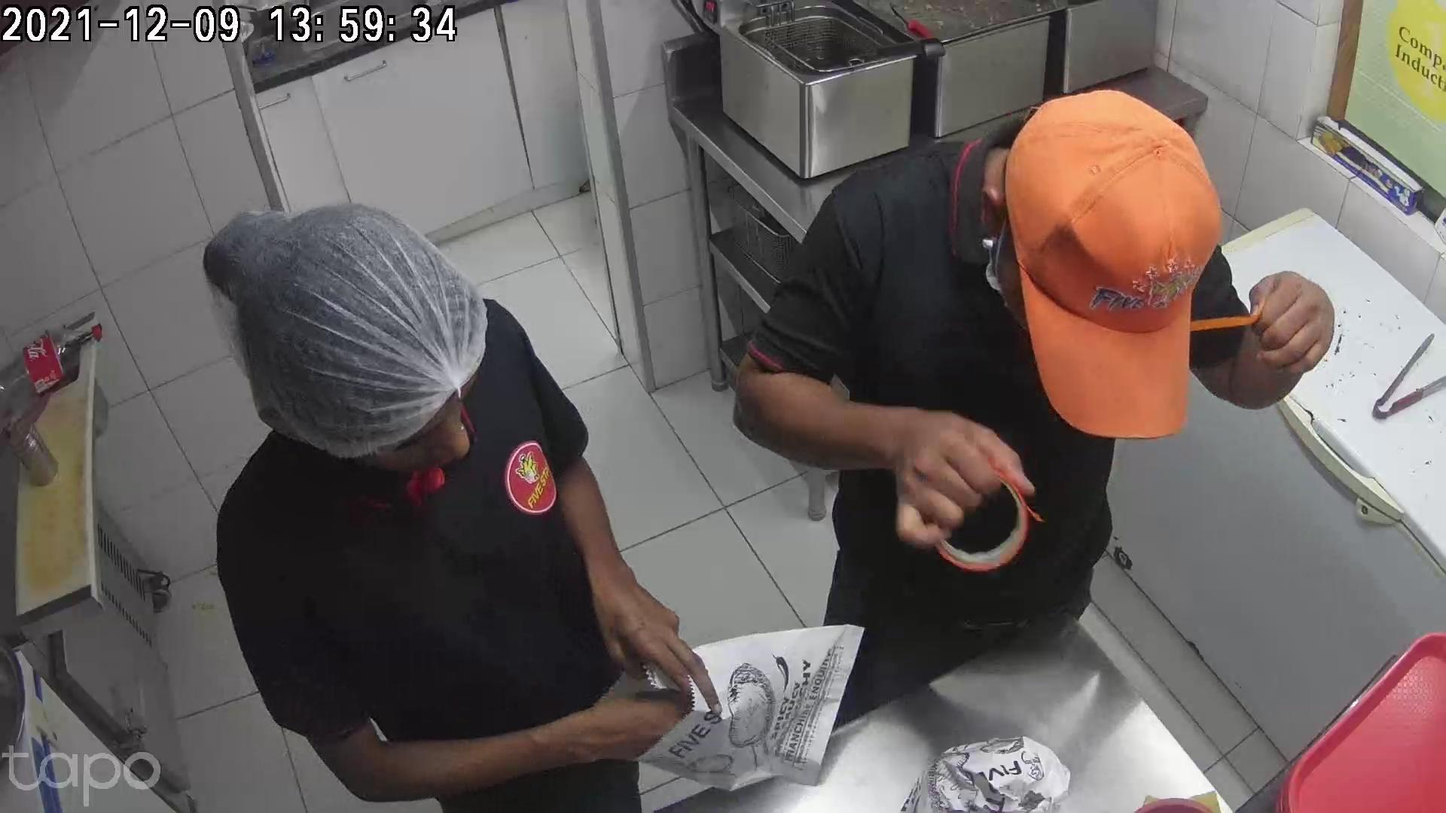no_gloves: (585, 557, 723, 715), (880, 408, 994, 547), (1252, 278, 1335, 376)
